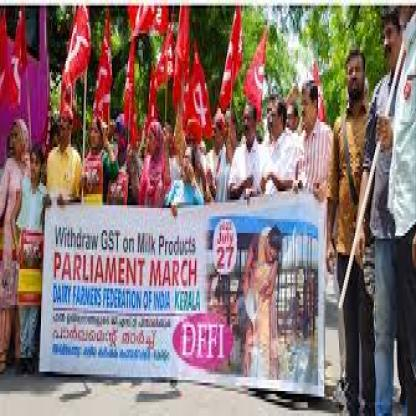BANNER: (16, 191, 344, 402)
